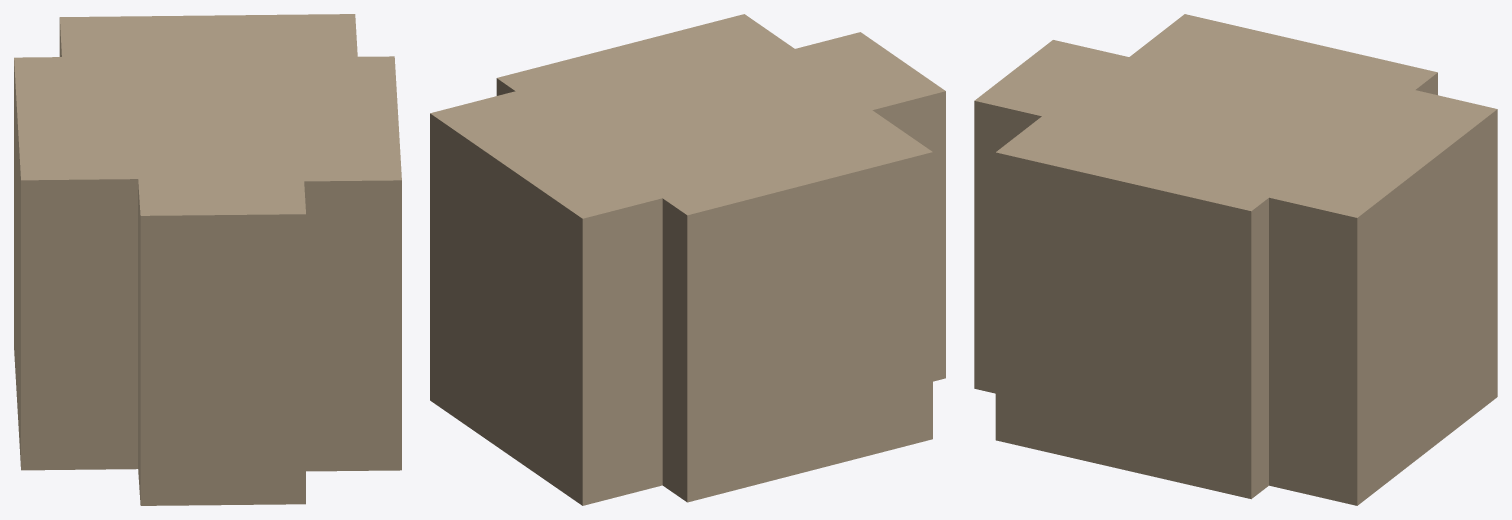
The model's file is bld_101246009.dae.
3 renders of one model, left to right at view 1: azimuth 30°, elevation 25°; view 2: azimuth 150°, elevation 25°; view 3: azimuth 270°, elevation 25°, orthographic.
Parts seen in each view (by area): view 1: bld_101246009; view 2: bld_101246009; view 3: bld_101246009.
Boxes of the visible parts, bbox=[...] form: bld_101246009: bbox=[14, 14, 401, 505]; bld_101246009: bbox=[430, 14, 945, 505]; bld_101246009: bbox=[974, 14, 1497, 505].
Bounding box in the file's own units: 10.64 × 11.53 × 7.
